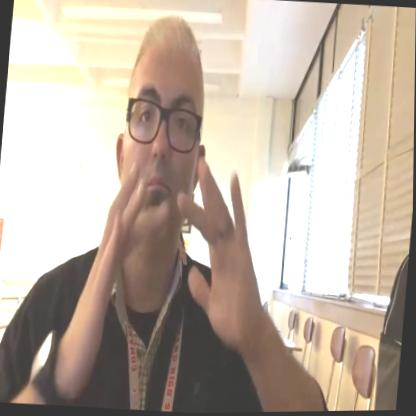Internet: (62, 137, 271, 399)
